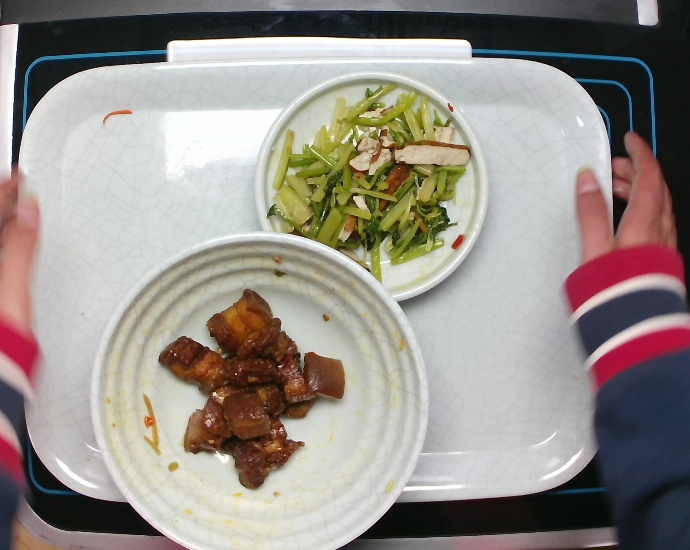JYsf-Da_Tang_Wan: (78, 226, 439, 550)
JYsf-Xiao_Yuan_Pan: (247, 64, 498, 313)
